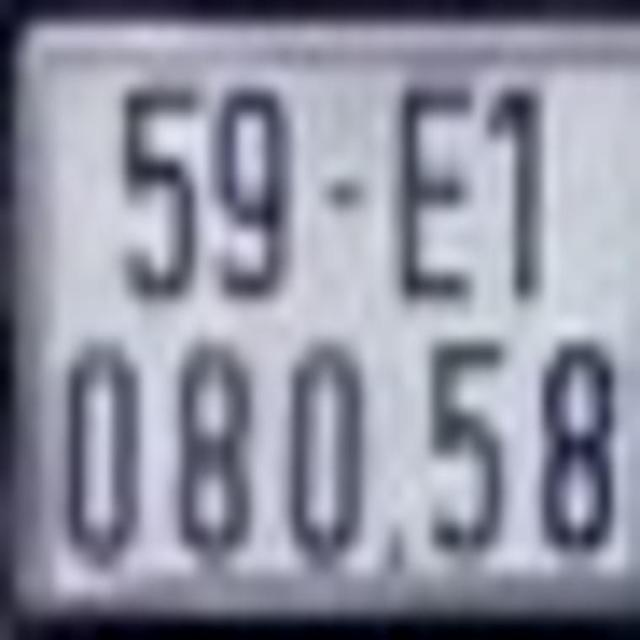0: (286, 337, 366, 566), (64, 338, 141, 567)
1: (485, 81, 552, 302)
5: (424, 332, 510, 561), (119, 82, 201, 302)
8: (537, 332, 618, 556), (176, 340, 253, 562)
9: (212, 82, 291, 301)
E: (396, 78, 480, 304)
